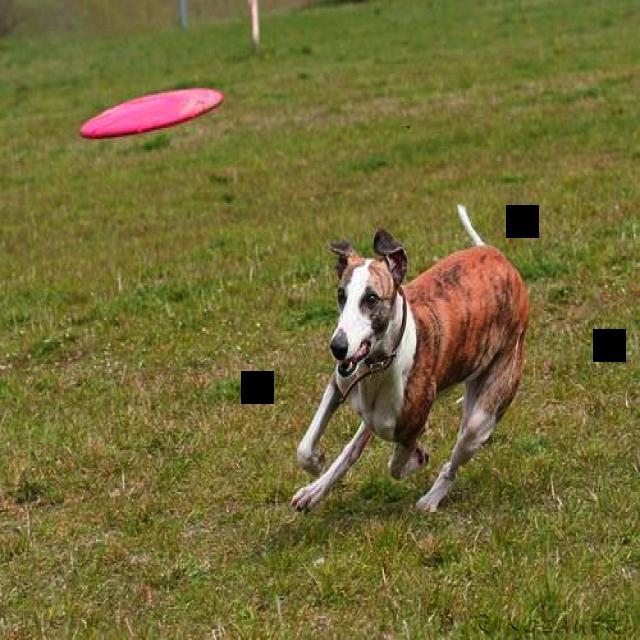adult_dog: (291, 205, 532, 520)
non-dog: (76, 79, 233, 145)
